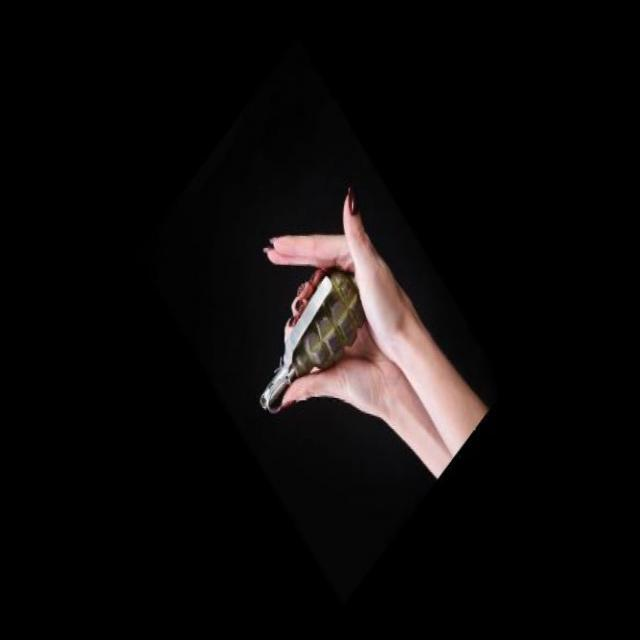grenade: (259, 258, 381, 427)
